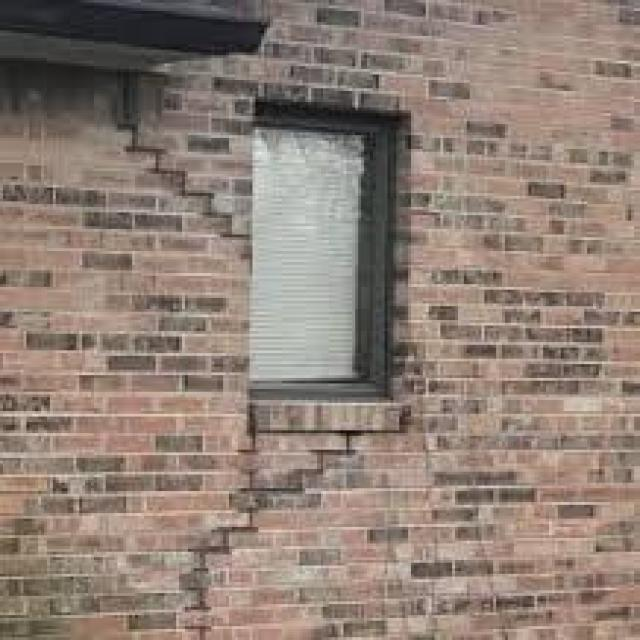Crack: (179, 430, 355, 638), (103, 91, 250, 240)
